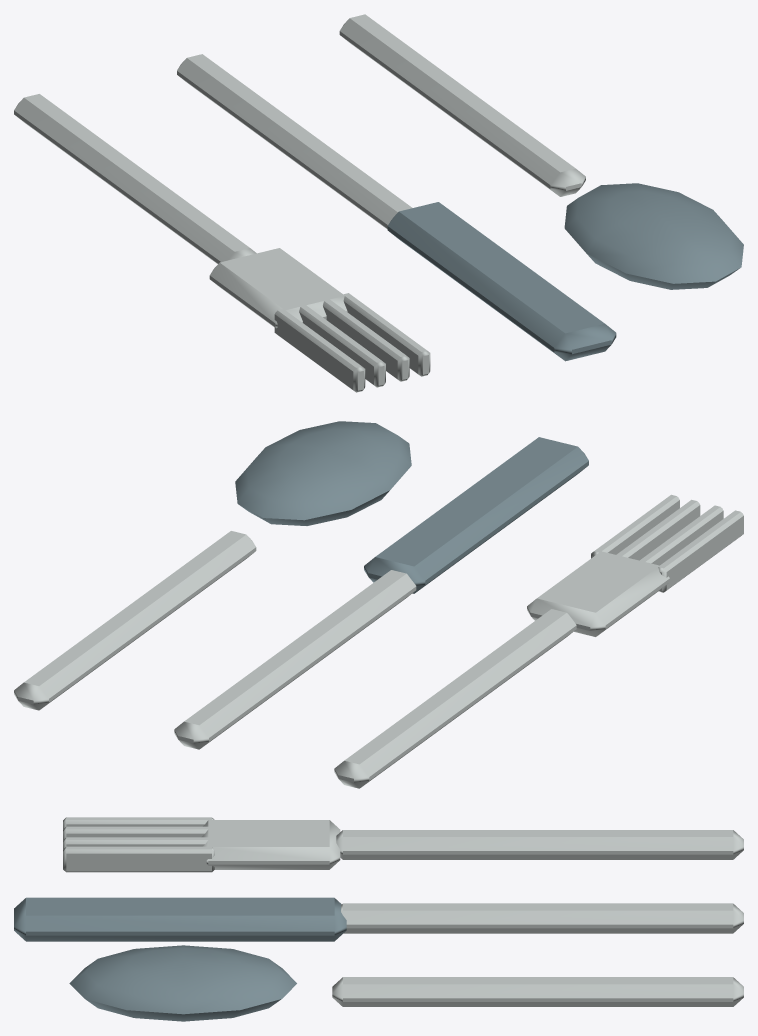
File: cutlery-set.glb
3 views of the same model, one above another, from view 1: azimuth 30°, elevation 25°; view 2: azimuth 150°, elevation 25°; view 3: azimuth 270°, elevation 25° (orthographic). The views are drawn at different scales.
Visible parts, largest first — view 1: spoon_bowl, knife_blade, tapered_handle.002, tapered_handle, tapered_handle.001, fork_shoulder, fork_tine, fork_tine.002, fork_tine.003, fork_tine.001; view 2: spoon_bowl, knife_blade, tapered_handle.002, tapered_handle, tapered_handle.001, fork_shoulder, fork_tine, fork_tine.002, fork_tine.003, fork_tine.001; view 3: knife_blade, spoon_bowl, tapered_handle.001, tapered_handle.002, tapered_handle, fork_shoulder, fork_tine.003, fork_tine.001, fork_tine, fork_tine.002.
Part boxes in pixels (x1,y1,x2,y2): spoon_bowl: (564, 183, 743, 289); knife_blade: (387, 202, 616, 361); tapered_handle.002: (339, 14, 585, 196); tapered_handle: (14, 94, 256, 263); tapered_handle.001: (177, 54, 412, 229); fork_shoulder: (209, 248, 347, 328); fork_tine: (274, 309, 365, 392); fork_tine.002: (323, 299, 409, 381); fork_tine.003: (343, 293, 430, 376); fork_tine.001: (299, 304, 385, 387); spoon_bowl: (235, 421, 411, 525); knife_blade: (364, 437, 588, 593); tapered_handle.002: (14, 531, 256, 710); tapered_handle: (334, 609, 576, 788); tapered_handle.001: (174, 570, 416, 749); fork_shoulder: (527, 551, 669, 636); fork_tine: (658, 510, 743, 592); fork_tine.002: (616, 499, 700, 560); fork_tine.003: (591, 494, 679, 558); fork_tine.001: (639, 505, 723, 565); knife_blade: (14, 897, 346, 941); spoon_bowl: (69, 945, 296, 1021); tapered_handle.001: (341, 903, 743, 933); tapered_handle.002: (332, 977, 743, 1006); tapered_handle: (336, 830, 743, 859); fork_shoulder: (201, 820, 340, 869); fork_tine.003: (63, 846, 214, 872); fork_tine.001: (63, 826, 210, 839); fork_tine: (63, 817, 214, 829); fork_tine.002: (63, 837, 211, 849).
Size of the model in its own units: 0.1465 by 0.016 by 0.2305.
